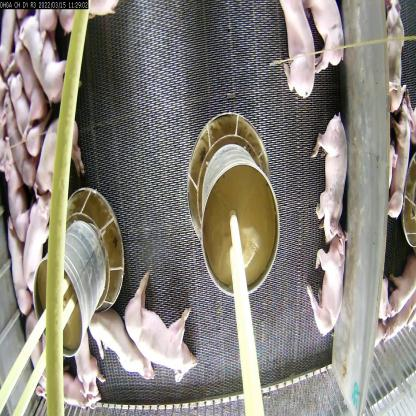Pig: (124, 265, 200, 387), (88, 298, 156, 384), (20, 12, 73, 106), (313, 115, 351, 245), (274, 0, 320, 102), (310, 227, 350, 341), (299, 2, 350, 76), (4, 76, 46, 165), (19, 188, 56, 286), (10, 30, 48, 123), (0, 106, 39, 194), (387, 99, 412, 230), (2, 210, 32, 318), (38, 364, 98, 416), (381, 0, 407, 118), (69, 328, 111, 401), (0, 149, 31, 239)
